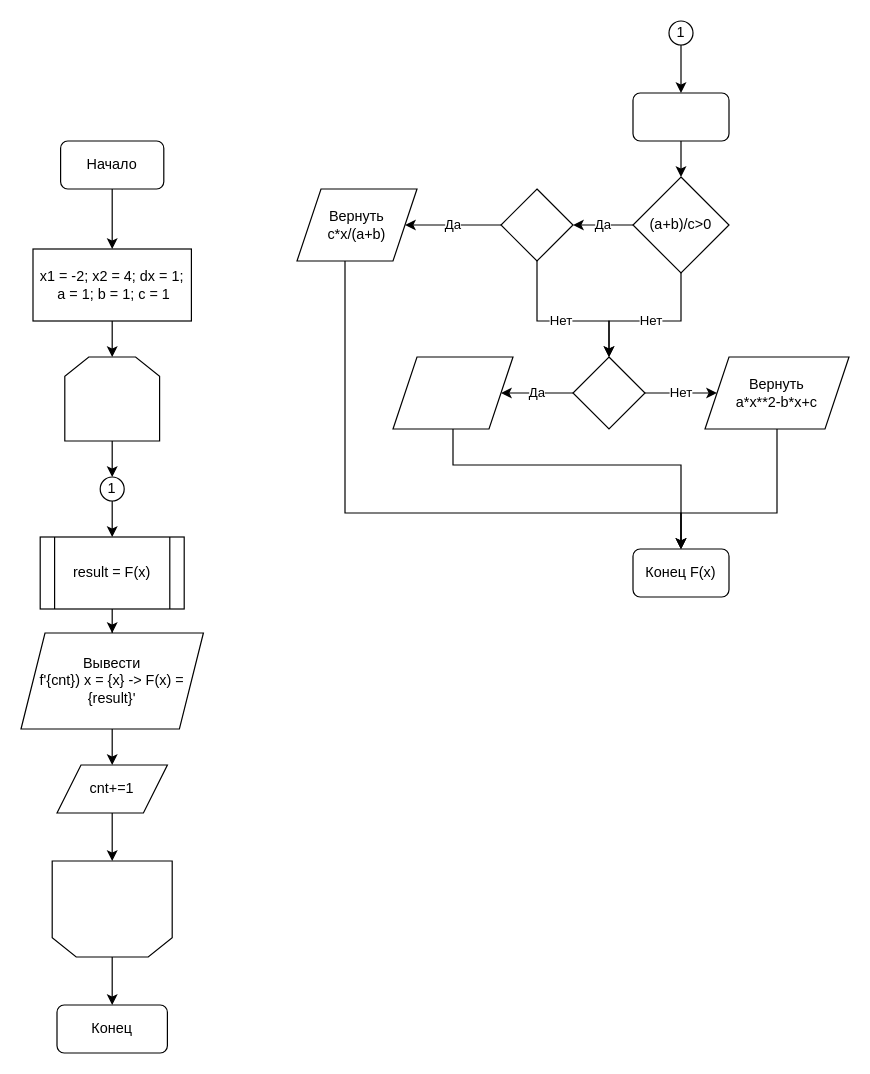
The diagram is 870 pixels wide and 1074 high, and some of its shapes have lost their labels. The shapes that lost their labels are listed below. From the top down, each one's box as (x1, y1, x2, y2) in pixels, then its label:
(632, 92, 729, 141): Начало F(x)
(500, 188, 573, 261): x!=0
(64, 356, 160, 441): Цикл x от x1 до x2+1
(392, 356, 513, 429): Вернуть 0
(572, 356, 645, 429): x==0
(51, 860, 172, 957): Увеличить x на dx Цикл x
